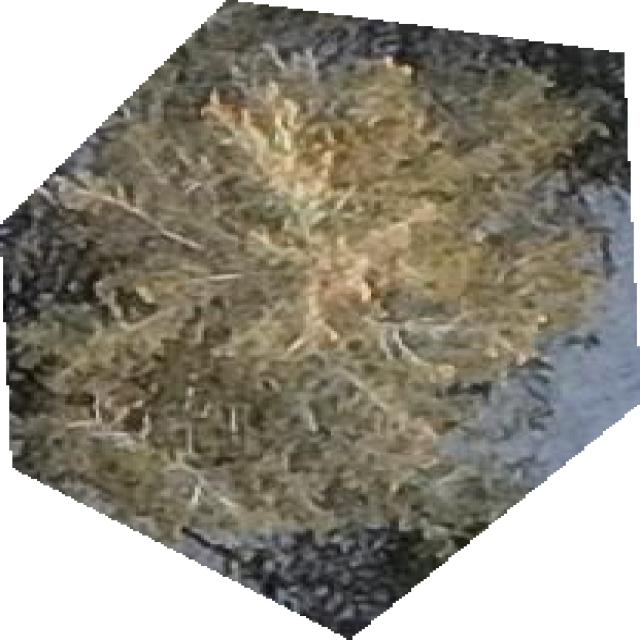spruce: (0, 0, 637, 638)
